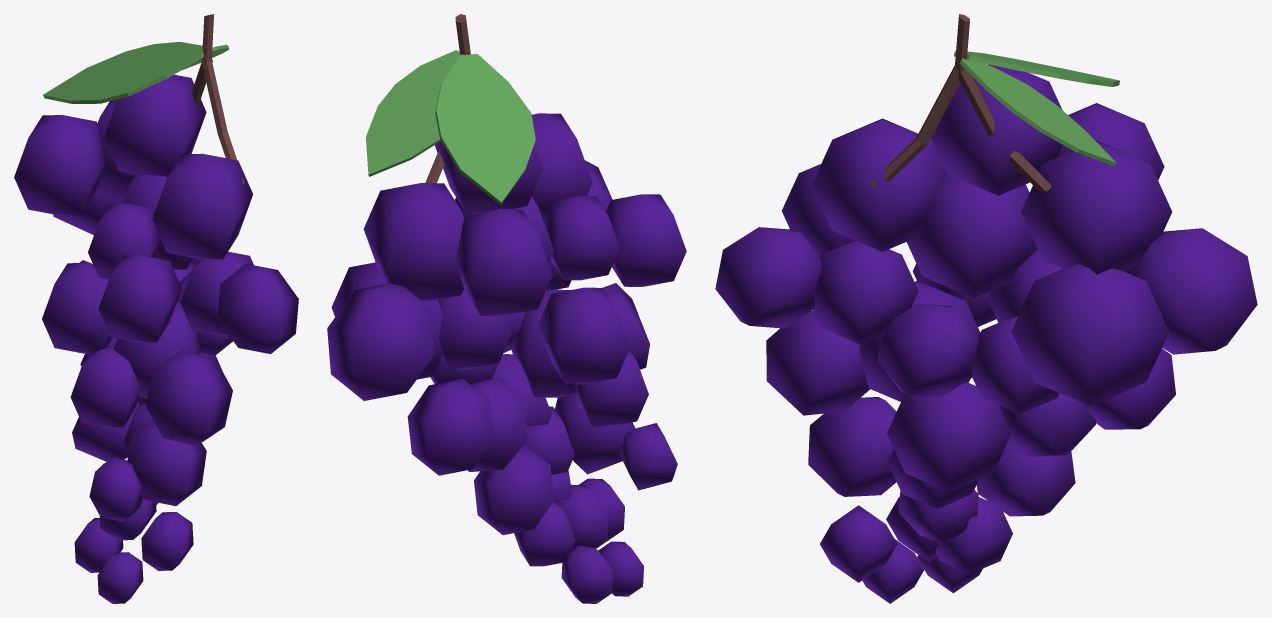
File: Uva.fbx
3 views of the same model, side by side, from view 1: azimuth 30°, elevation 25°; view 2: azimuth 150°, elevation 25°; view 3: azimuth 270°, elevation 25° (orthographic). The views are drawn at different scales.
Parts seen in each view (by area): view 1: Uva; view 2: Uva; view 3: Uva.
Boxes of the visible parts, x1,y1,x2,y2 form: Uva: [14, 14, 298, 603]; Uva: [327, 14, 686, 603]; Uva: [715, 14, 1257, 603].
Bounding box in the file's own units: 13.58 × 29.88 × 22.44.
